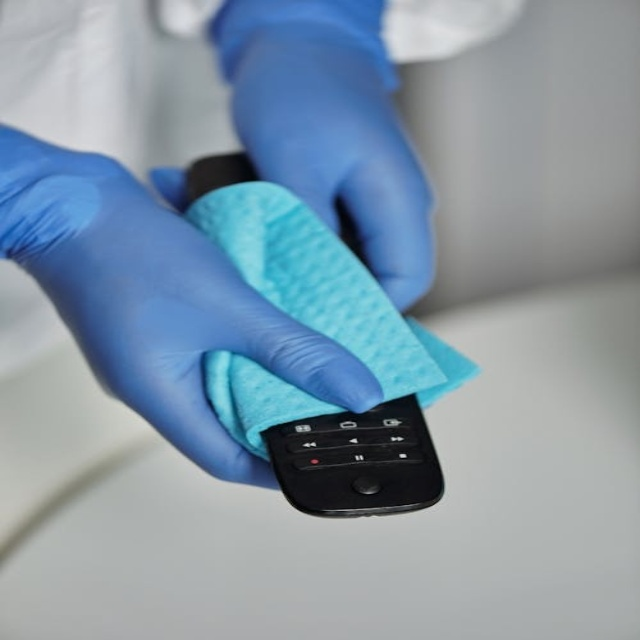Guantes: (6, 121, 388, 502), (202, 1, 435, 314)
